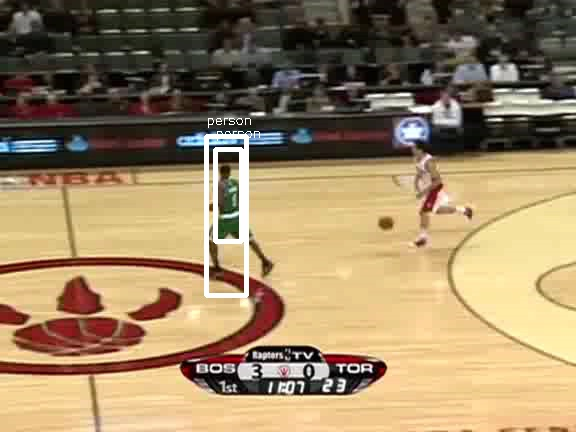person: (213, 171, 247, 252), (212, 171, 246, 252), (214, 171, 248, 252), (213, 170, 247, 251), (213, 172, 247, 253)
target_negative: (47, 287, 295, 417), (3, 228, 170, 322), (112, 353, 432, 387), (418, 161, 547, 238), (521, 290, 558, 400), (356, 404, 417, 431)
